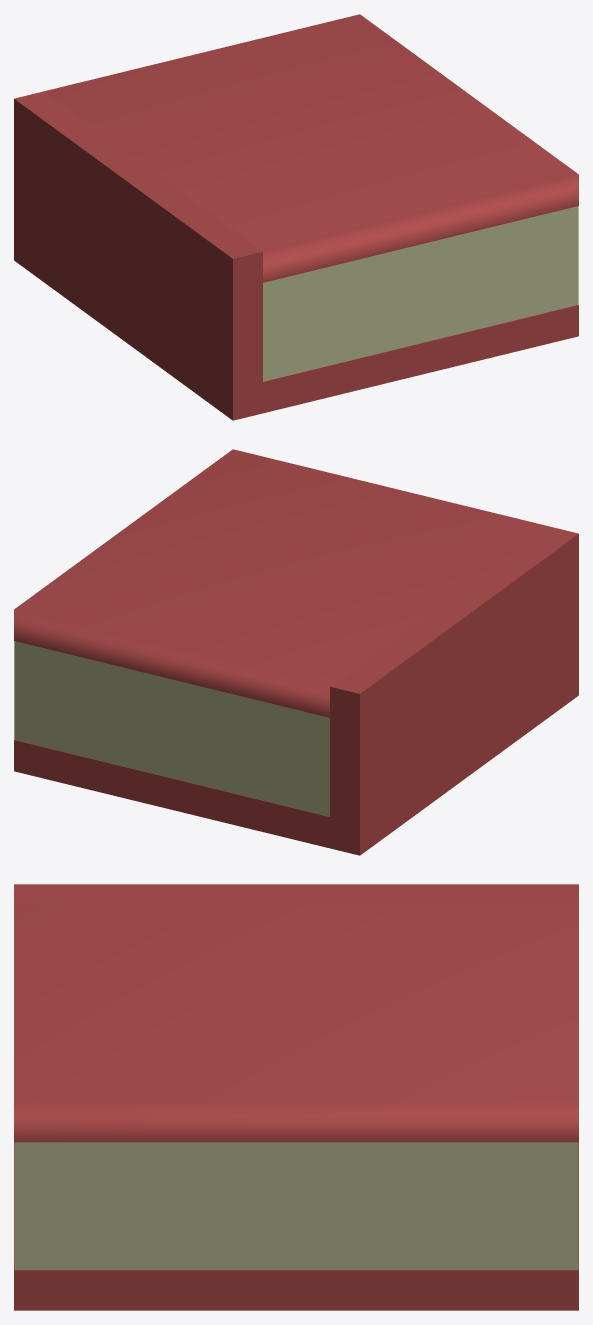
Rendered from Book_Closed.fbx.
The picture shows the model from 3 angles, top to bottom: view 1: azimuth 30°, elevation 25°; view 2: azimuth 150°, elevation 25°; view 3: azimuth 270°, elevation 25°; orthographic projection. The views are drawn at different scales.
Visible parts, largest first — view 1: Cover, Pages; view 2: Cover, Pages; view 3: Cover, Pages.
Part boxes in pixels (<box>): Cover: <box>14,14,578,420</box>; Pages: <box>263,206,578,381</box>; Cover: <box>14,449,578,855</box>; Pages: <box>14,641,329,816</box>; Cover: <box>14,884,578,1310</box>; Pages: <box>14,1142,578,1269</box>.
Bounding box in the file's own units: 0.5483 × 0.245 × 0.6011.
